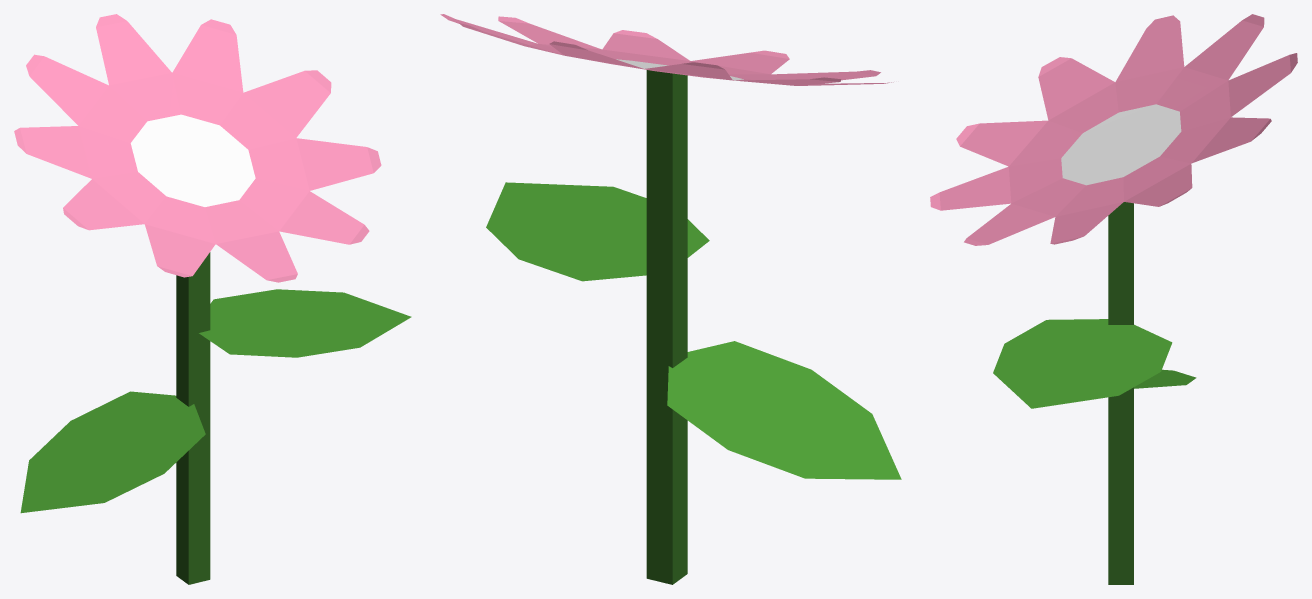
Rendered from love.glb.
3 views of the same model, side by side, from view 1: azimuth 30°, elevation 25°; view 2: azimuth 150°, elevation 25°; view 3: azimuth 270°, elevation 25° (orthographic). The views are drawn at different scales.
Visible parts, largest first — view 1: ziran.821; view 2: ziran.821; view 3: ziran.821.
Boxes of the visible parts, box(x1,y1,x2,y2) form: ziran.821: box(14, 14, 411, 584); ziran.821: box(440, 14, 901, 584); ziran.821: box(930, 14, 1297, 584).
Bounding box in the file's own units: 0.458 × 0.6115 × 0.3904.
Materials: 1 (1 with a texture image).
